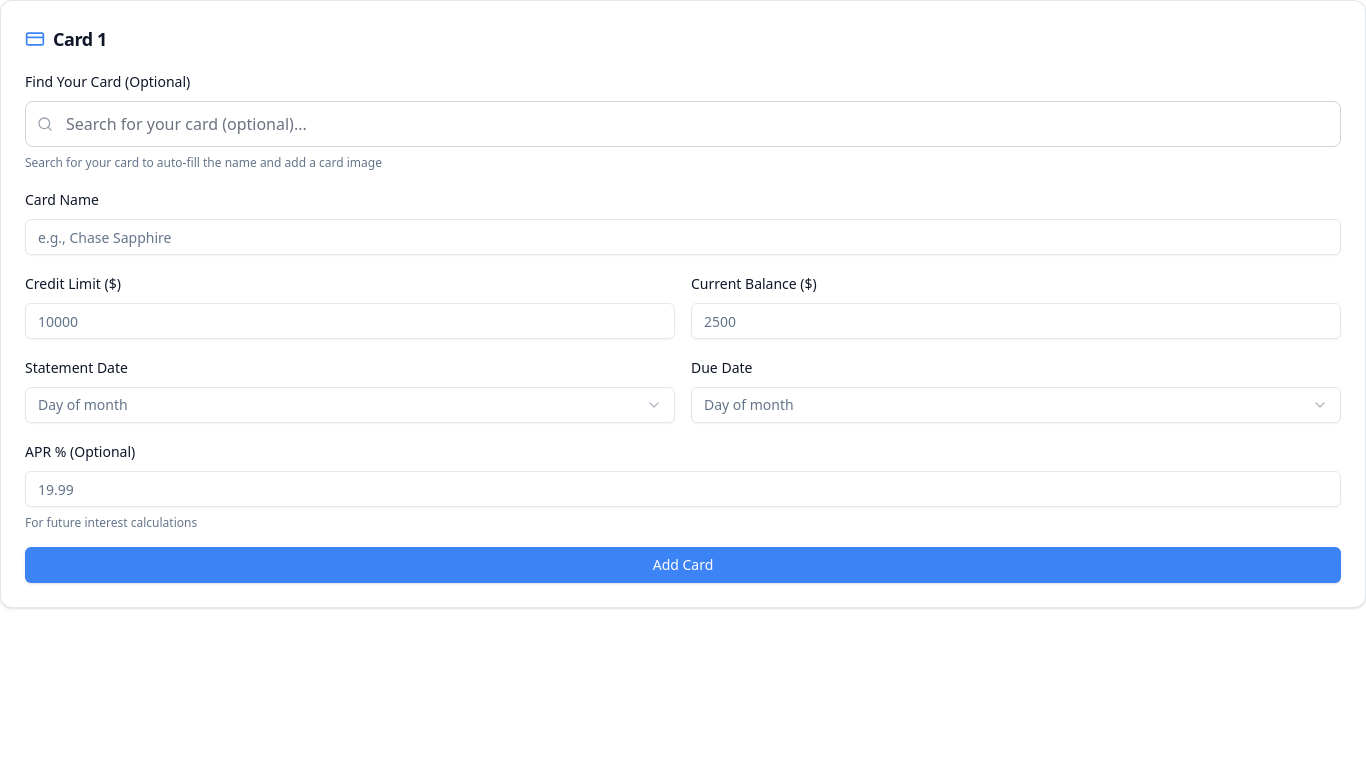
it: CreditCardForm › Form Validation › should show error for invalid credit limit
Type "Test Card" into the field labelled "Card Name".
click(683, 237); type("Test Card")  # box [25,219,1341,255]
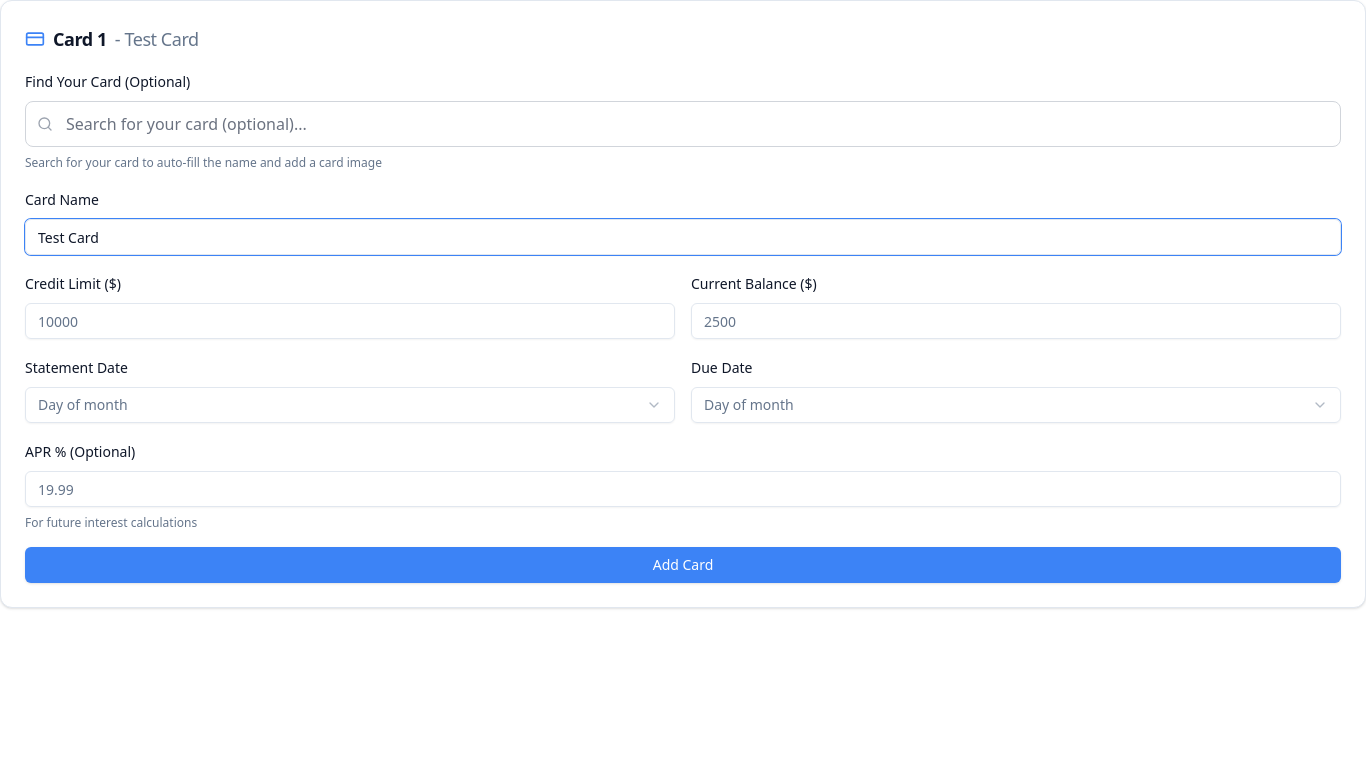
Type "-100" into the number field labelled "Credit Limit ($)".
click(350, 321); type("-100")  # box [25,303,675,339]
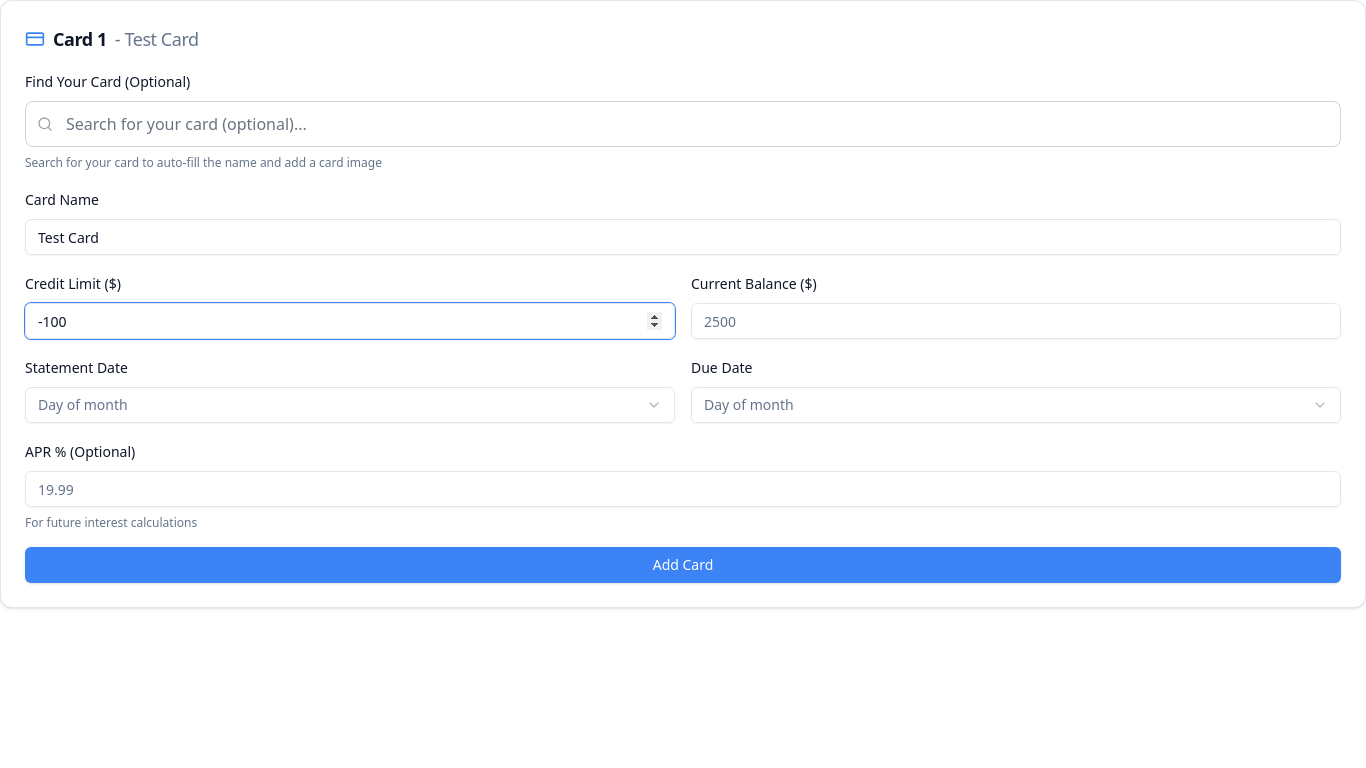
Click the button "Add Card".
click(683, 565)  # box [25,547,1341,583]
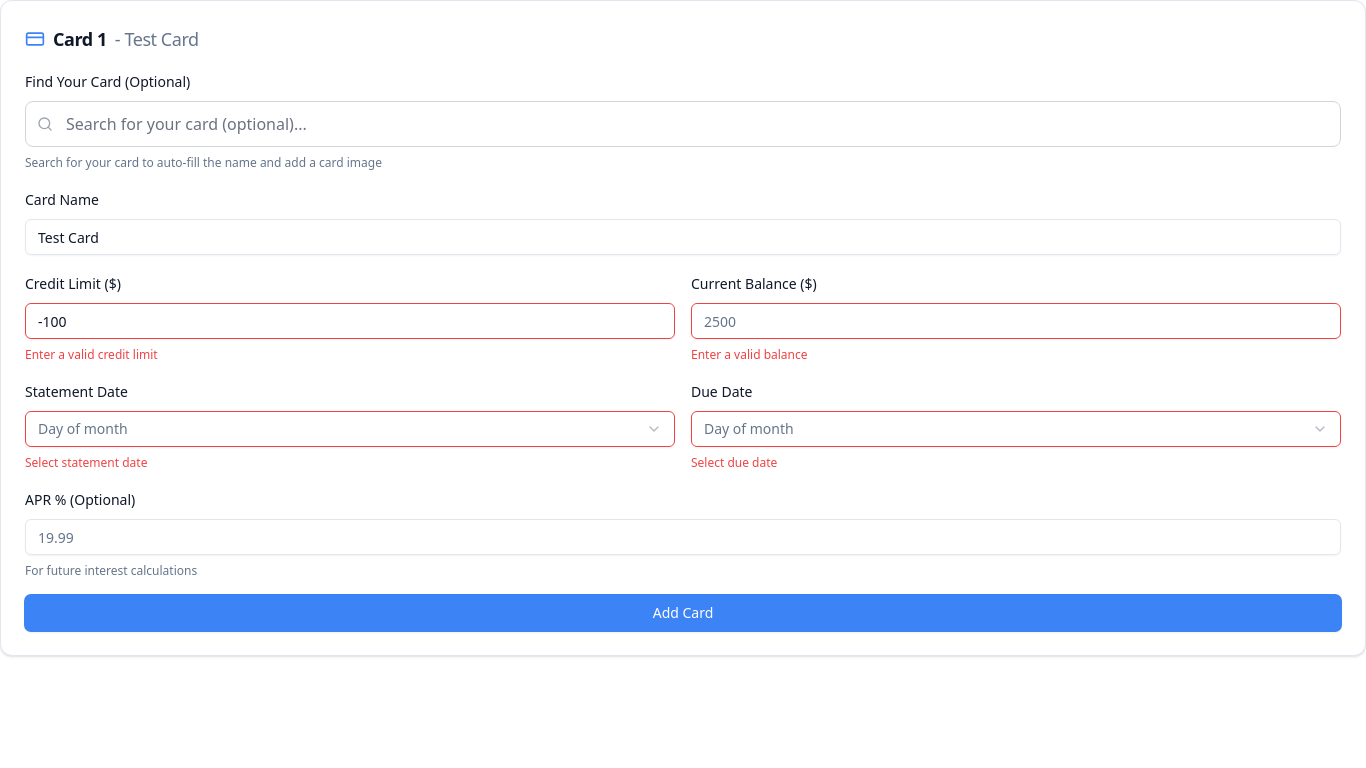
Result: the text "Enter a valid credit limit" is shown at [25,346,158,363]
